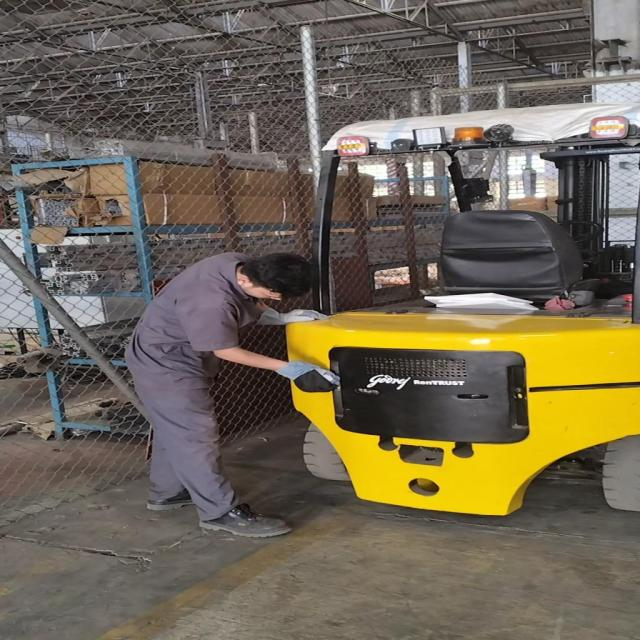Gloves-Detection: (270, 358, 344, 400), (254, 301, 328, 328)
